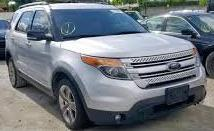SUV: (6, 5, 206, 130)
